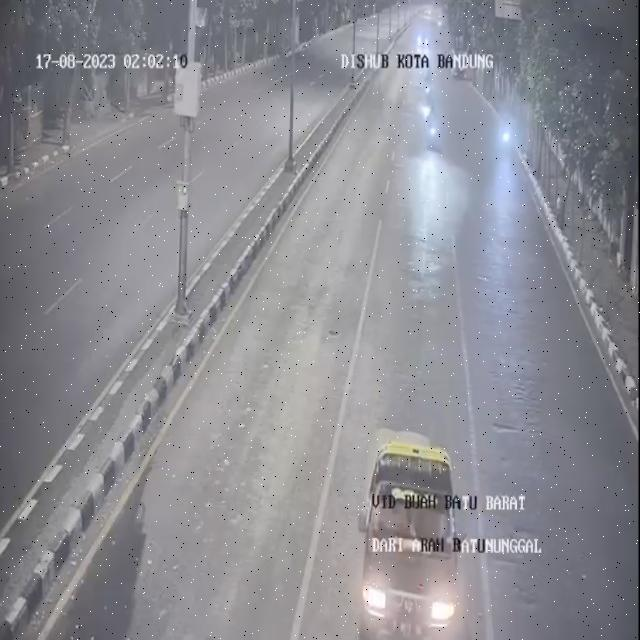cars: (364, 445, 459, 639)
motorcycle: (500, 103, 515, 157), (427, 101, 441, 150), (423, 68, 433, 104)
